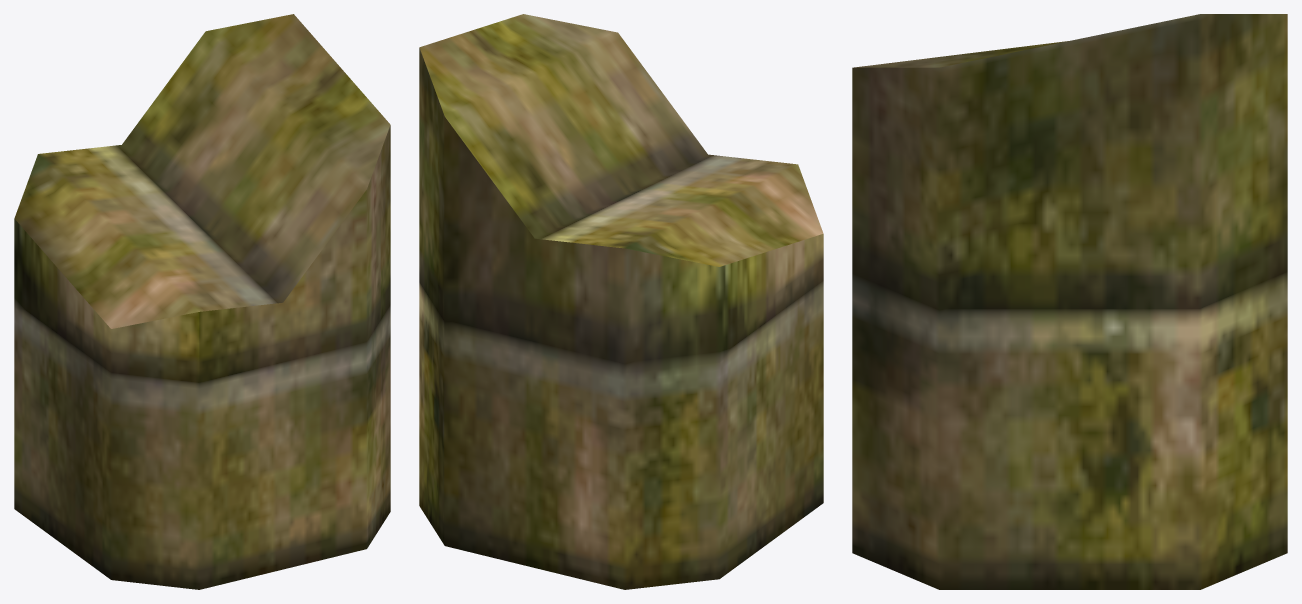
Rendered from OVERHILL_A_01_LINE385.fbx.
3 renders of one model, left to right at view 1: azimuth 30°, elevation 25°; view 2: azimuth 150°, elevation 25°; view 3: azimuth 270°, elevation 25°, orthographic. The views are drawn at different scales.
Visible parts, largest first — view 1: OVERHILL_A_01_LINE385; view 2: OVERHILL_A_01_LINE385; view 3: OVERHILL_A_01_LINE385.
Boxes of the visible parts, x1,y1,x2,y2 form: OVERHILL_A_01_LINE385: (14,14,390,589); OVERHILL_A_01_LINE385: (419,14,823,589); OVERHILL_A_01_LINE385: (852,14,1287,589).
Size of the model in its own units: 9604 by 14025 by 9604.
Materials: 1 (1 with a texture image).
